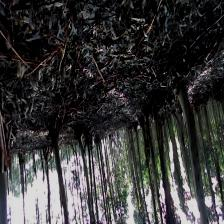trunk: (174, 83, 208, 216), (153, 112, 172, 208), (52, 138, 69, 219), (78, 137, 89, 192), (45, 163, 51, 216)
